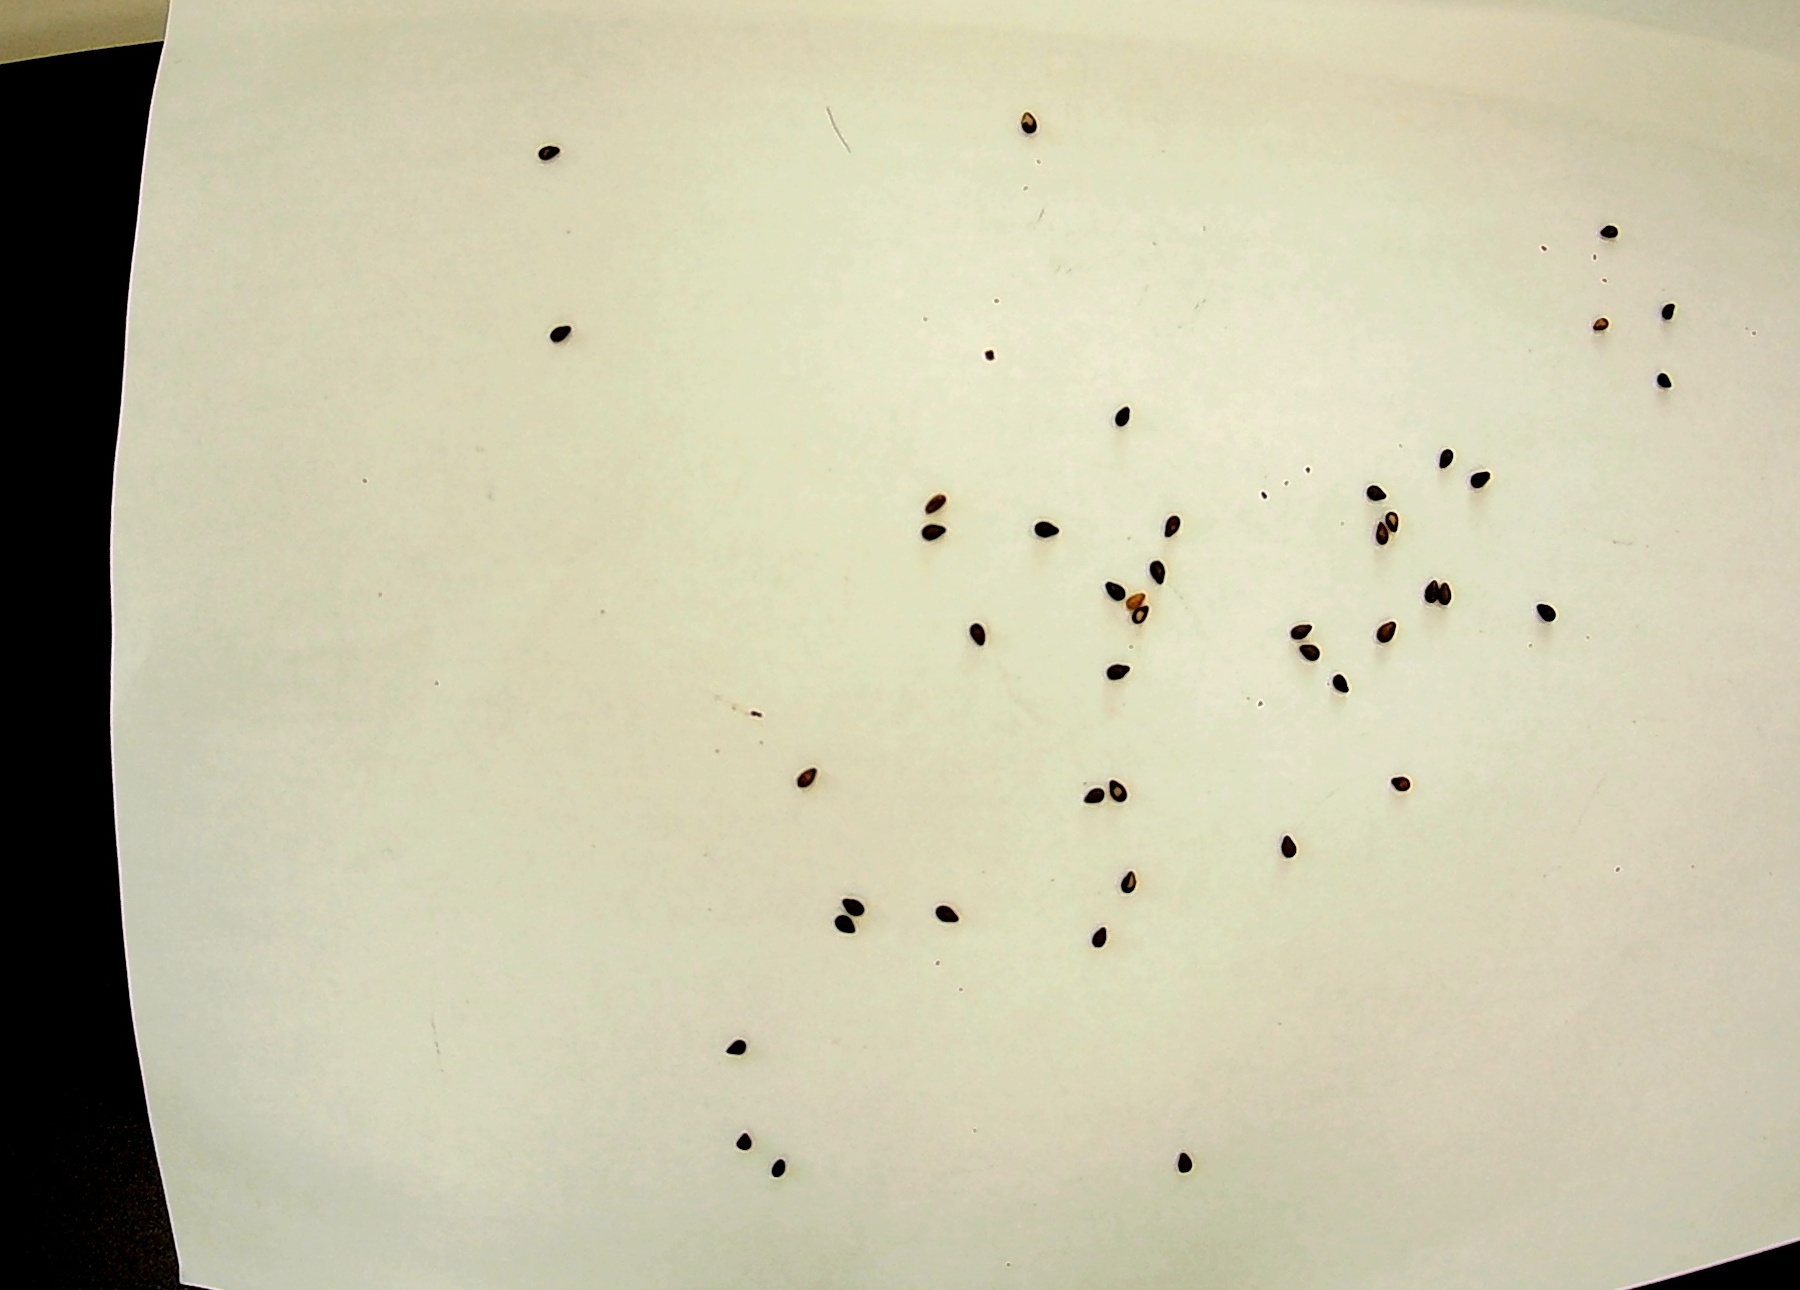sesami: (730, 1127, 766, 1164), (1067, 778, 1104, 815), (1102, 776, 1139, 814), (1113, 853, 1150, 891), (1074, 926, 1111, 963), (1160, 1146, 1196, 1184), (1268, 824, 1305, 861), (820, 914, 855, 954), (1427, 445, 1464, 482), (1026, 512, 1062, 549), (712, 1032, 747, 1069), (772, 1156, 807, 1194), (927, 892, 961, 930), (1359, 473, 1395, 508), (1352, 517, 1388, 551), (1429, 574, 1465, 609), (1536, 595, 1573, 630), (1373, 610, 1409, 645), (1282, 611, 1319, 646), (1288, 637, 1324, 672), (1326, 670, 1362, 705), (1387, 759, 1423, 794), (1143, 556, 1179, 591), (1151, 511, 1187, 546), (917, 484, 953, 519), (915, 519, 952, 554), (1095, 567, 1132, 602), (1386, 511, 1420, 546), (1407, 570, 1441, 605), (959, 614, 993, 649), (1455, 468, 1499, 496), (1098, 652, 1132, 683), (788, 768, 822, 799), (837, 882, 871, 913), (1101, 403, 1139, 429), (1642, 364, 1680, 390), (1582, 309, 1619, 334), (1014, 107, 1052, 131), (1591, 215, 1628, 239), (1642, 295, 1680, 318), (532, 141, 568, 165), (544, 317, 580, 341), (1120, 607, 1167, 625), (1113, 589, 1158, 607)
